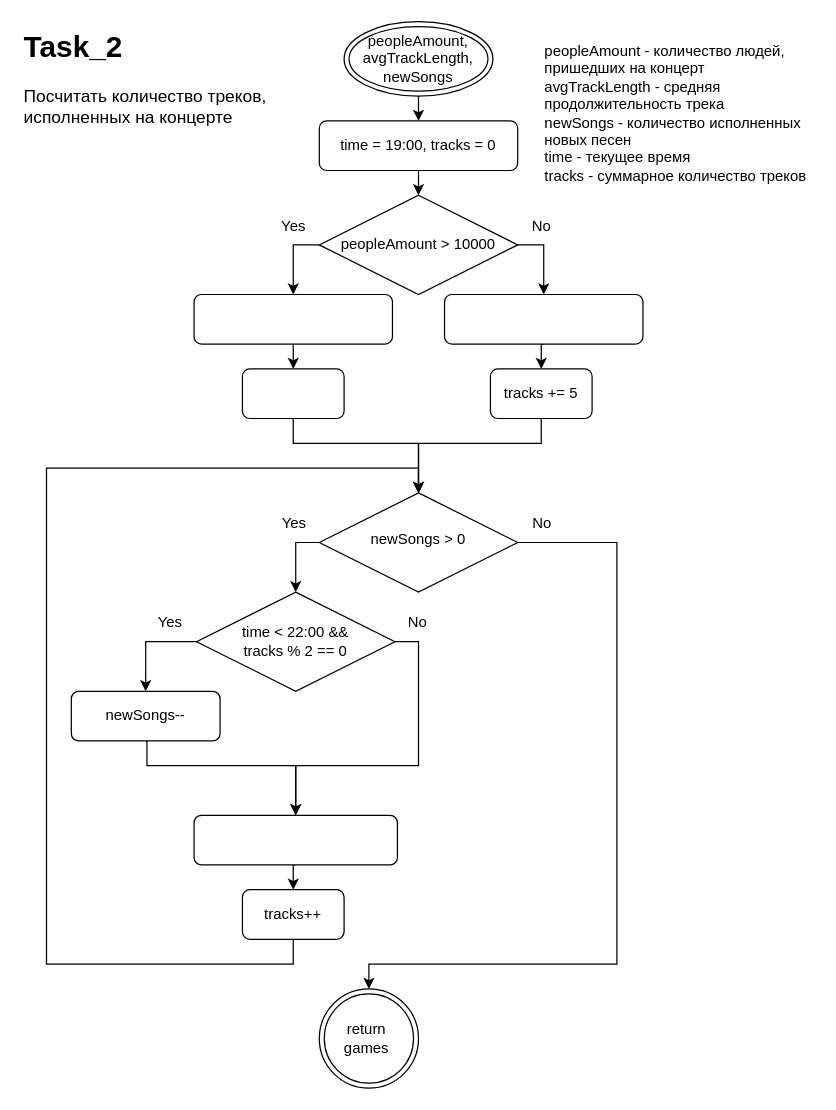
This 836x1110 diagram has some shape labels left out. The shapes that lost their labels are listed below. From the top down, each one's box as (x1, y1, x2, y2) in pixels, then its label:
(193, 293, 392, 344): time += 10 * avgTrackLength
(443, 293, 643, 344): time += 5 * avgTrackLength
(241, 368, 344, 418): tracks += 10
(193, 814, 397, 865): time += avgTrackLength
